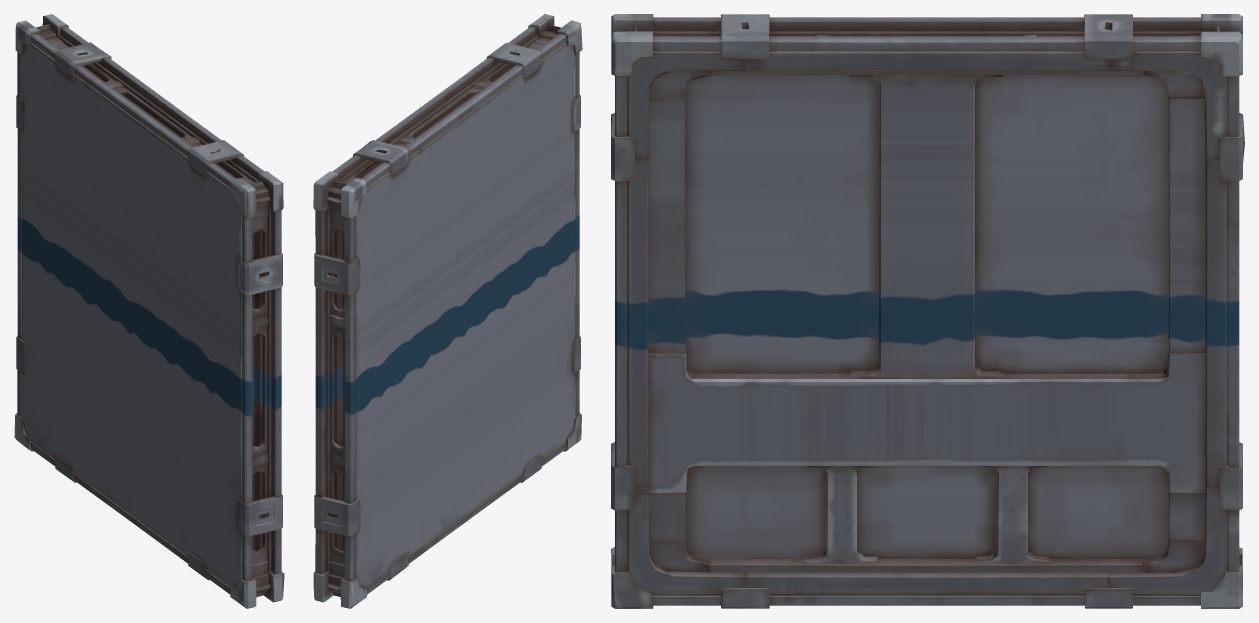
Rendered from Wall_Metal_C.glb.
3 renders of one model, left to right at view 1: azimuth 30°, elevation 25°; view 2: azimuth 150°, elevation 25°; view 3: azimuth 270°, elevation 25°, orthographic. The views are drawn at different scales.
Parts seen in each view (by area): view 1: SM_Metal_WallSquare; view 2: SM_Metal_WallSquare; view 3: SM_Metal_WallSquare.
Boxes of the visible parts, box(x1,y1,x2,y2) form: SM_Metal_WallSquare: box(14, 14, 284, 608); SM_Metal_WallSquare: box(313, 14, 582, 608); SM_Metal_WallSquare: box(611, 14, 1244, 608).
Bounding box in the file's own units: 0.309 × 3.05 × 3.05.
Materials: 1 (1 with a texture image).
